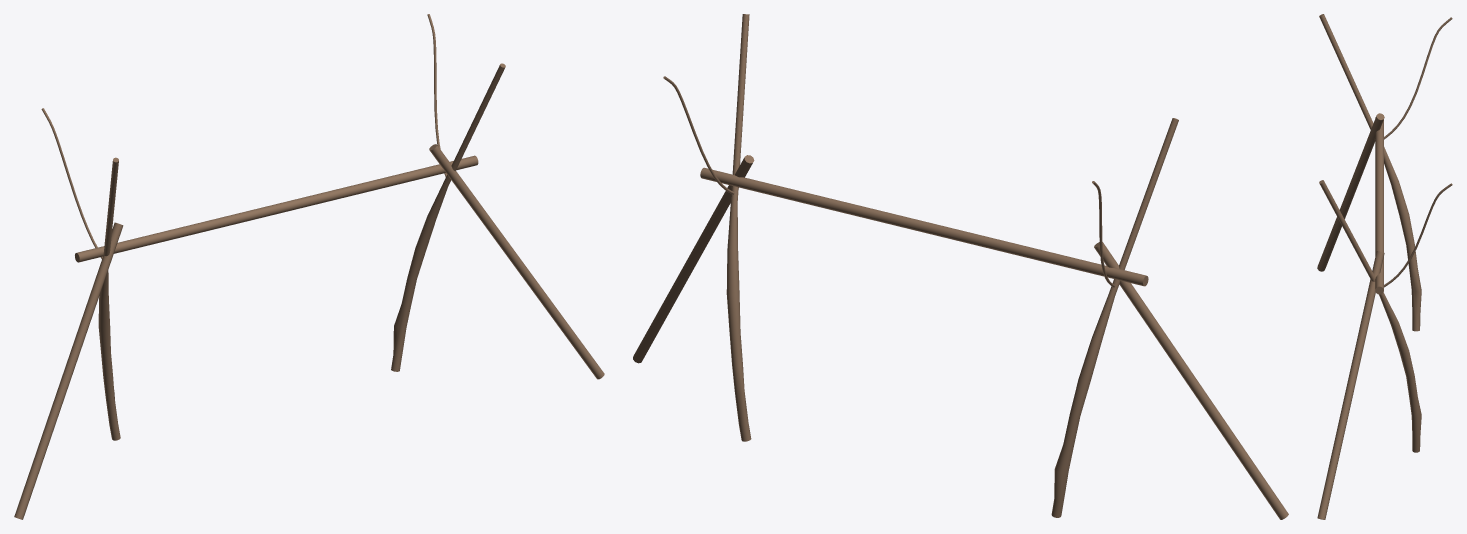
Rendered from SM_rack.fbx.
The picture shows the model from 3 angles, left to right: view 1: azimuth 30°, elevation 25°; view 2: azimuth 150°, elevation 25°; view 3: azimuth 270°, elevation 25°; orthographic projection. The views are drawn at different scales.
Parts seen in each view (by area): view 1: rack; view 2: rack; view 3: rack.
Boxes of the visible parts, <box> form: rack: <box>14,14,604,519</box>; rack: <box>633,14,1288,519</box>; rack: <box>1317,14,1452,519</box>.
Size of the model in its own units: 149 by 81.53 by 33.52.
